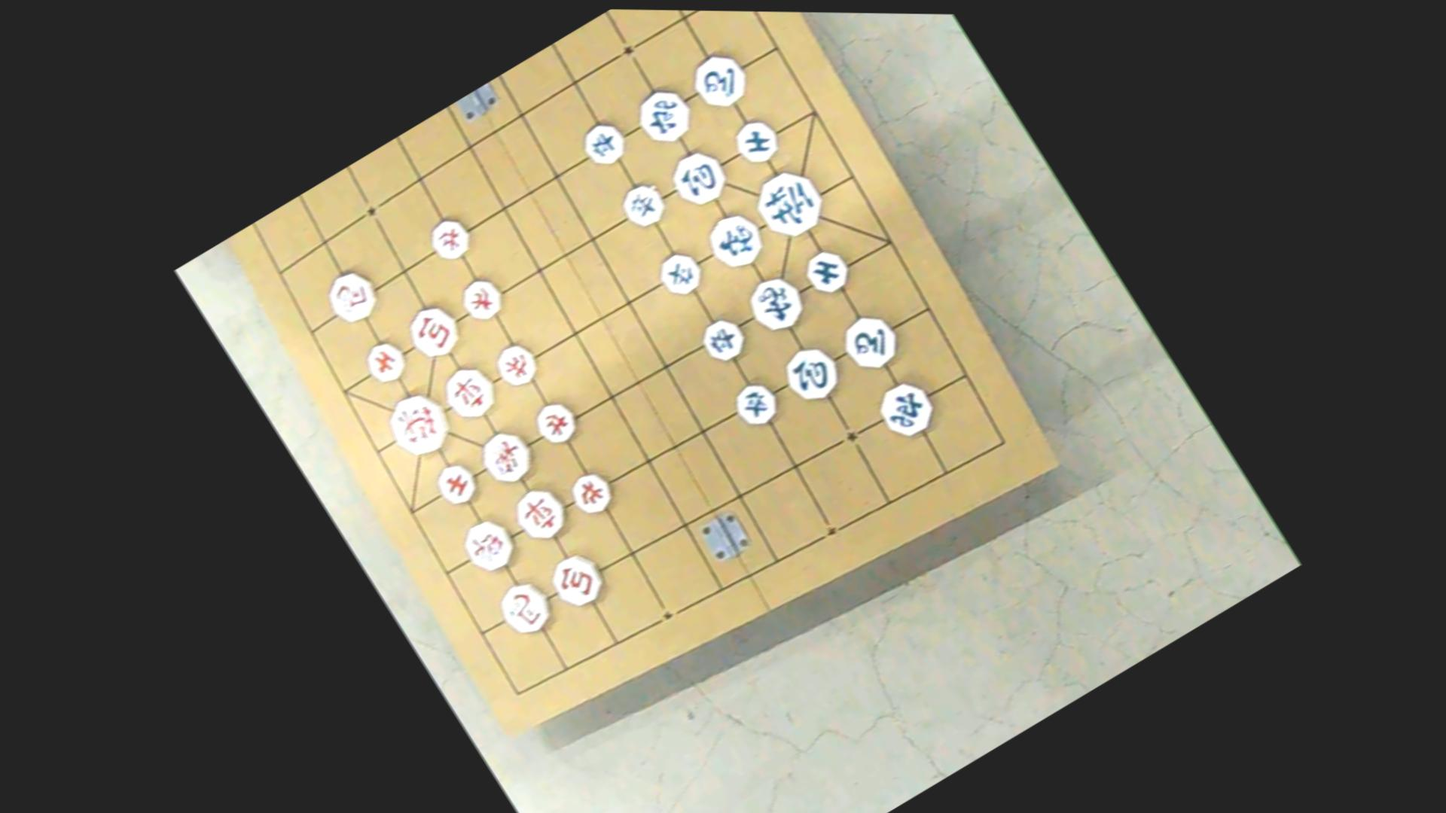cha_green: (871, 374, 942, 443), (629, 81, 700, 149)
cha_red: (435, 358, 504, 425), (506, 480, 573, 545)
jol_green: (694, 310, 752, 366), (728, 376, 785, 431), (653, 246, 708, 299), (615, 178, 671, 230), (576, 117, 631, 169)
jol_red: (529, 394, 584, 448), (423, 212, 477, 264), (565, 467, 619, 519), (490, 339, 543, 390), (456, 273, 509, 324)
ma_green: (684, 46, 755, 114), (835, 307, 905, 374)
ma_red: (492, 575, 560, 641), (319, 263, 385, 327)
po_green: (664, 143, 734, 212), (777, 340, 847, 407)
po_red: (400, 298, 467, 363), (544, 547, 611, 612)
sa_green: (728, 114, 785, 168), (798, 244, 855, 297)
sa_red: (359, 334, 413, 387), (430, 457, 484, 509)
sang_green: (740, 268, 811, 336), (700, 206, 770, 274)
sang_red: (472, 423, 541, 489), (456, 513, 523, 577)
wang_green: (746, 160, 832, 245)
wang_red: (379, 384, 459, 463)
